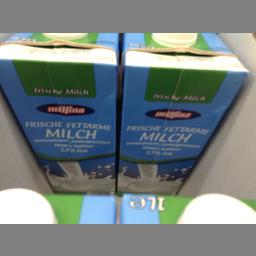milk: (120, 32, 248, 194), (0, 31, 117, 193)
